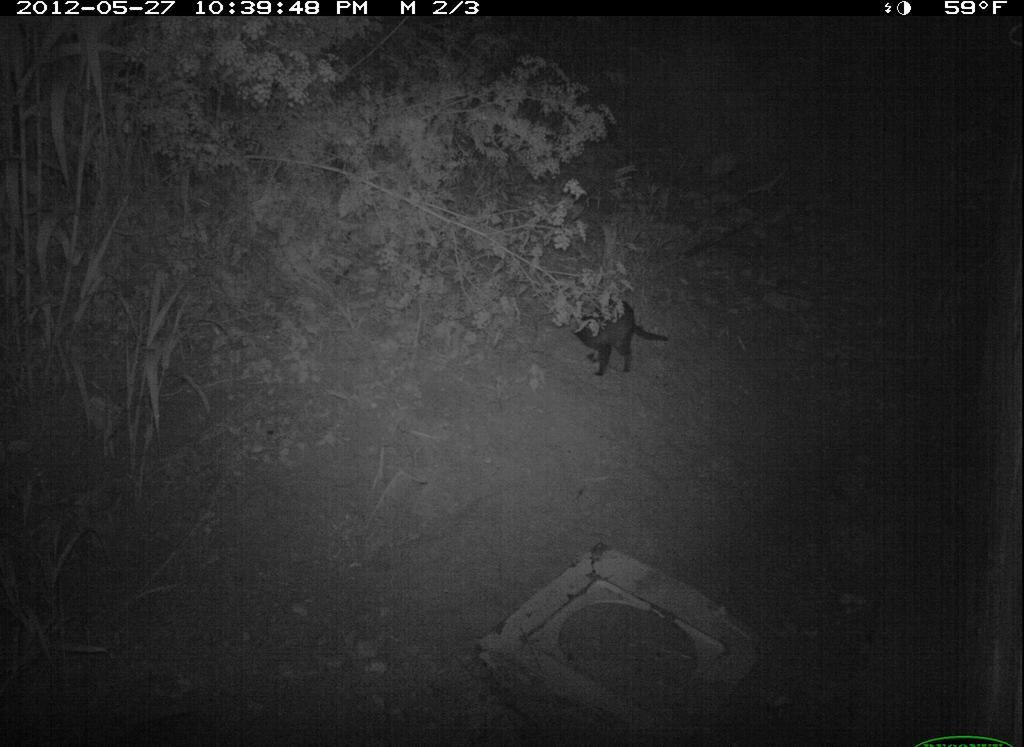cat: (564, 282, 679, 383)
